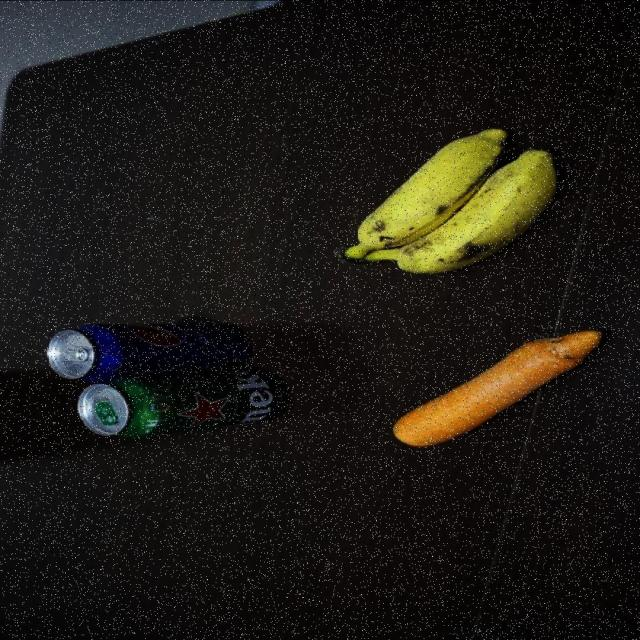Banana: (333, 127, 561, 275)
BeerCan: (77, 369, 286, 436)
Carrot: (393, 327, 609, 446)
SodaCan: (44, 322, 256, 381)
